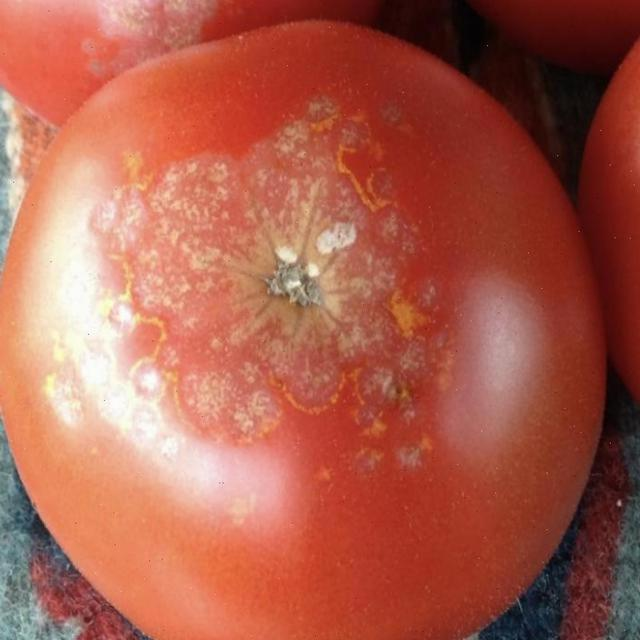Blossom End Rot Fruit: (59, 59, 292, 324)
